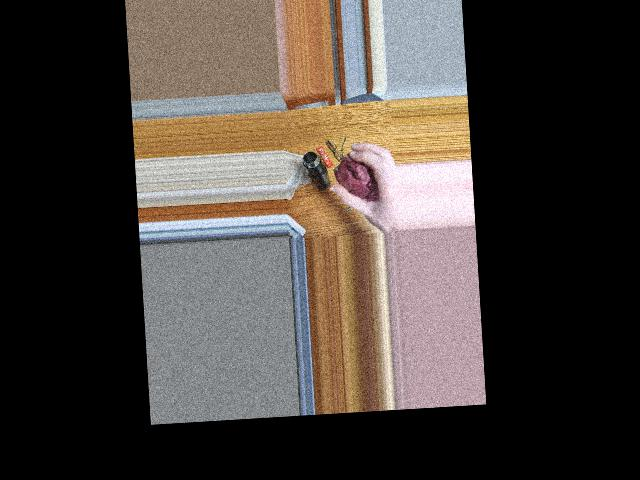onion: (338, 151, 378, 202)
